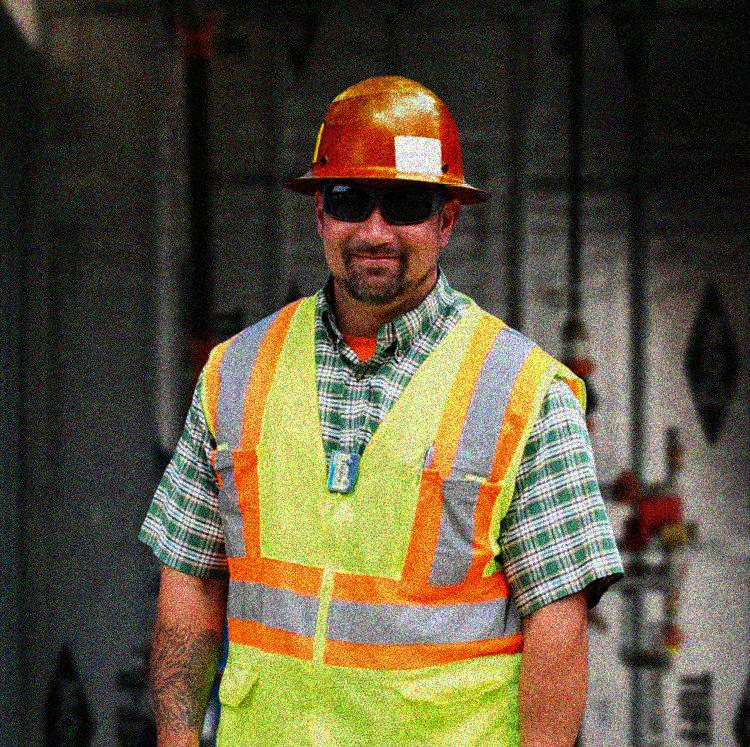helmet: (286, 72, 491, 310)
